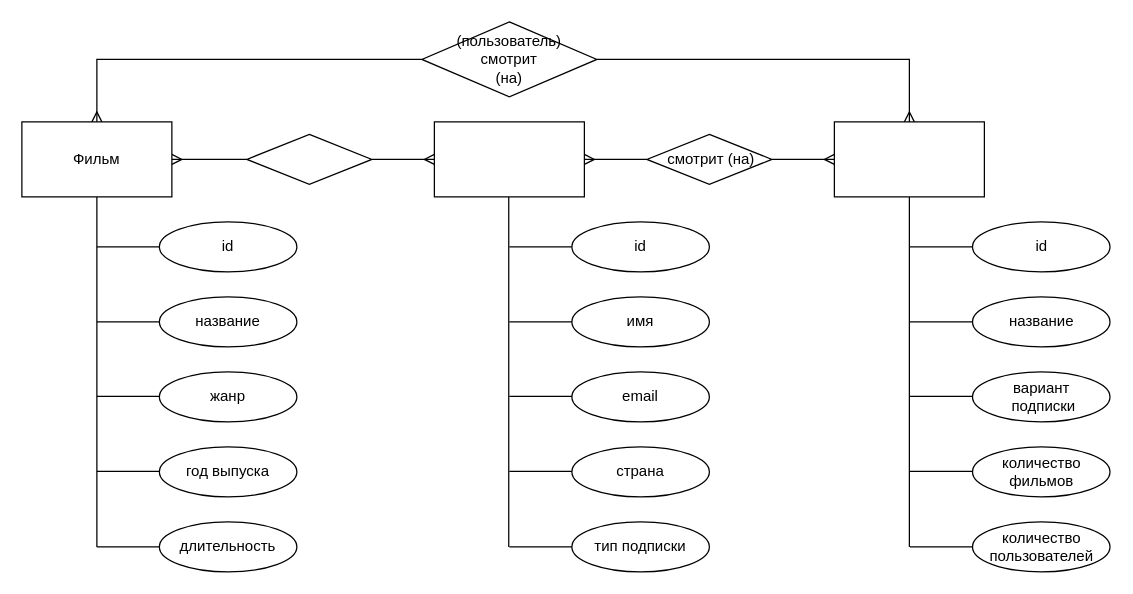
Image size: 1133x594. Some labels were removed from this diagram. Here are the shapes that lost their labels. From the top down, the centre of each, then its label:
the point at 309,158: смотрит
the point at 508,159: Пользователь
the point at 908,159: Кинотеатр
